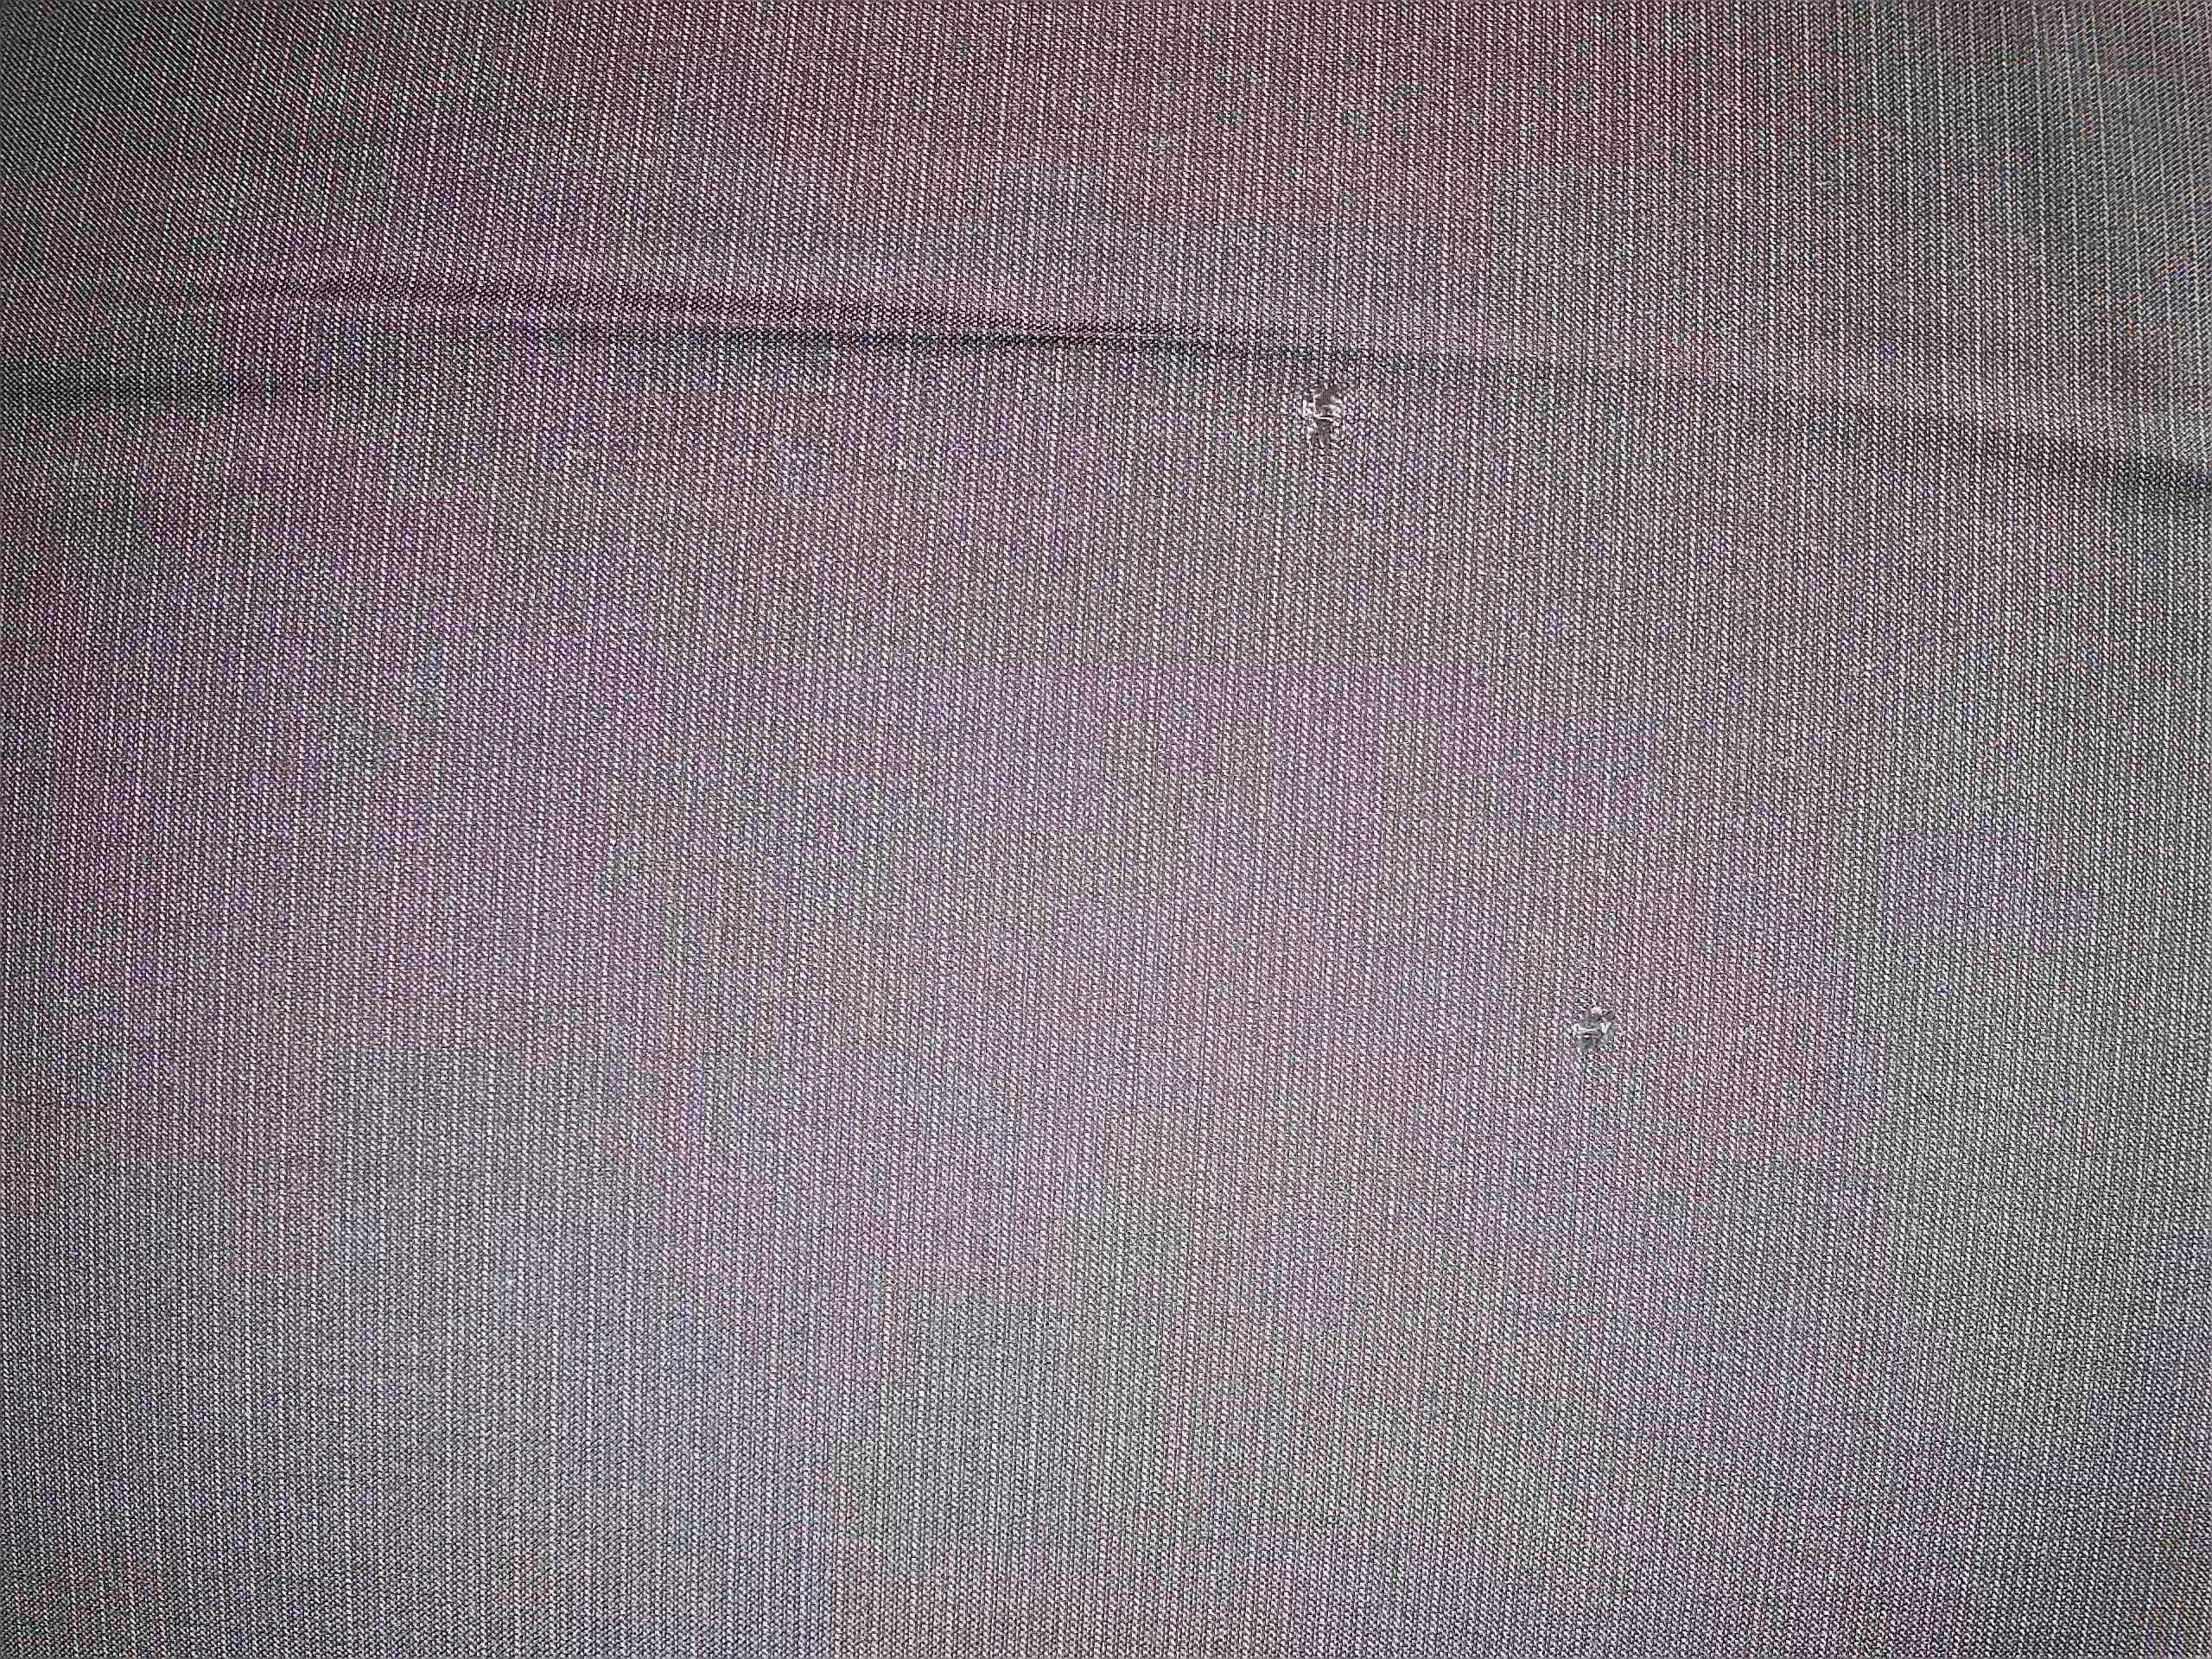rubbing-hole: (1273, 342, 1381, 472), (1548, 978, 1642, 1079)
